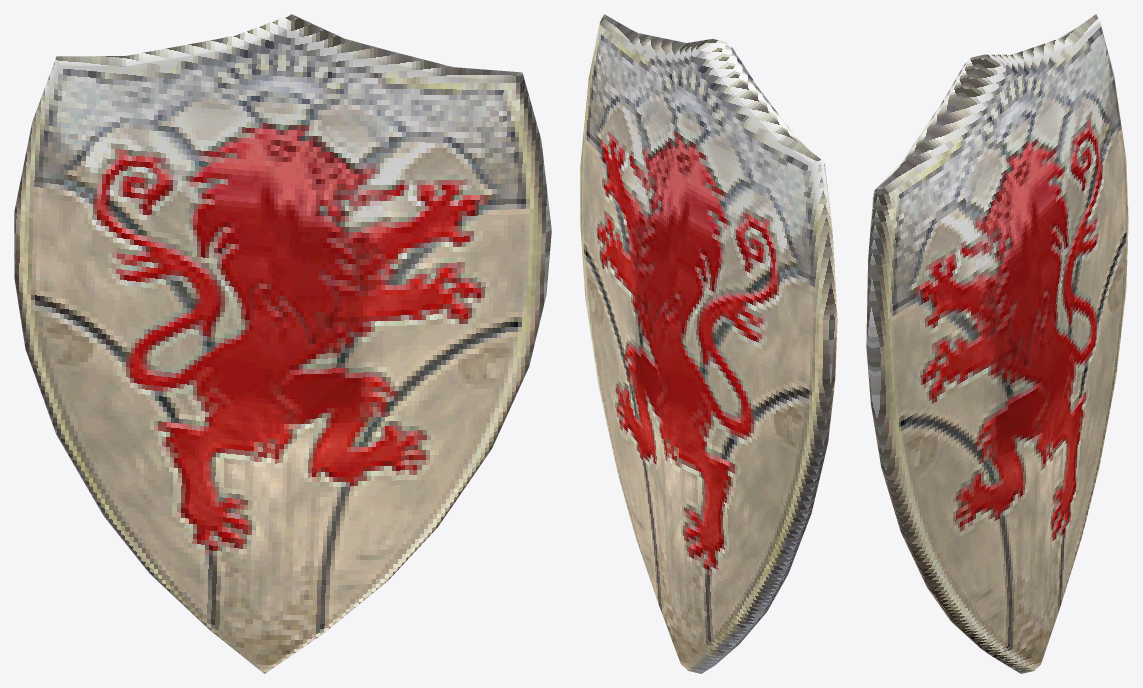
The model's file is ps2_save-icons_princecaspian.glb.
3 renders of one model, left to right at view 1: azimuth 30°, elevation 25°; view 2: azimuth 150°, elevation 25°; view 3: azimuth 270°, elevation 25°, orthographic. The views are drawn at different scales.
Parts seen in each view (by area): view 1: PS2.ico; view 2: PS2.ico; view 3: PS2.ico.
Part boxes in pixels (left/top/right/bottom): PS2.ico: left=14, top=14, right=551, bottom=673; PS2.ico: left=580, top=14, right=837, bottom=673; PS2.ico: left=866, top=14, right=1128, bottom=673.
Size of the model in its own units: 2.82 by 4.47 by 1.71.
1 material, 1 textured.
